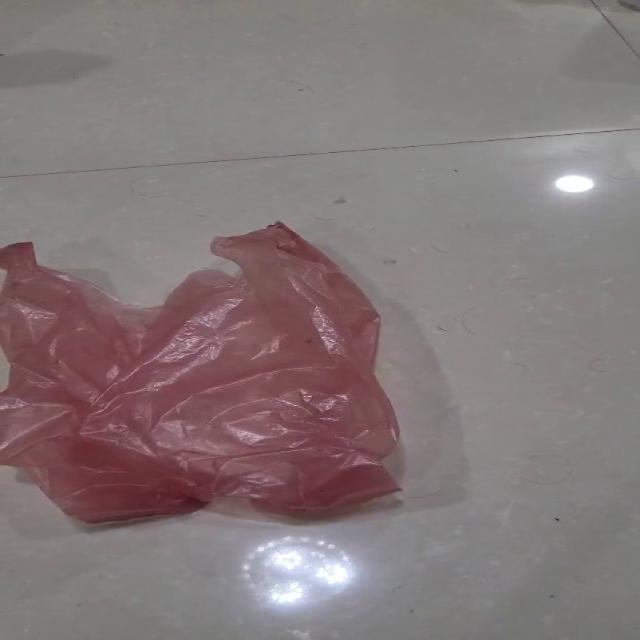plastic: (0, 219, 403, 523)
